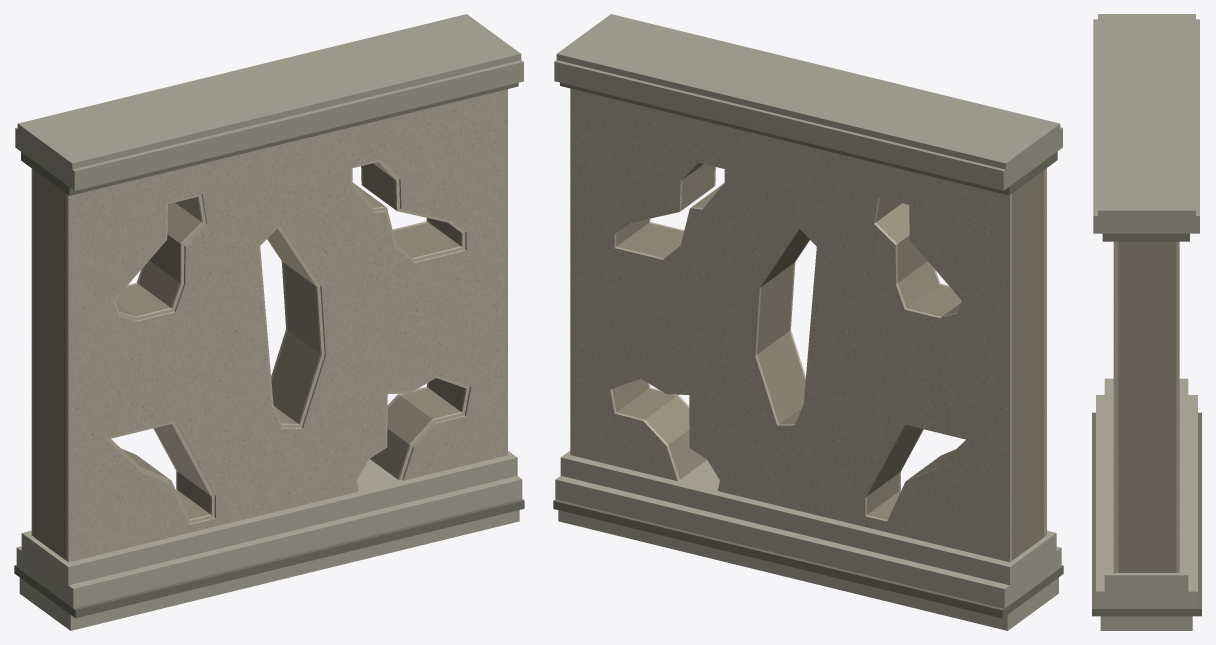
Rendered from changning-lianan-pierced-balustrade-panel-lod.glb.
3 renders of one model, left to right at view 1: azimuth 30°, elevation 25°; view 2: azimuth 150°, elevation 25°; view 3: azimuth 270°, elevation 25°, orthographic. The views are drawn at different scales.
Parts seen in each view (by area): view 1: 联安坊老住宅阳台水泥透花栏板; view 2: 联安坊老住宅阳台水泥透花栏板; view 3: 联安坊老住宅阳台水泥透花栏板.
Boxes of the visible parts, left/top/right/bottom form: 联安坊老住宅阳台水泥透花栏板: left=14, top=14, right=524, bottom=630; 联安坊老住宅阳台水泥透花栏板: left=553, top=14, right=1063, bottom=630; 联安坊老住宅阳台水泥透花栏板: left=1092, top=14, right=1201, bottom=630.
Bounding box in the file's own units: 0.695 × 0.693 × 0.164.
Materials: 6 (1 with a texture image).
